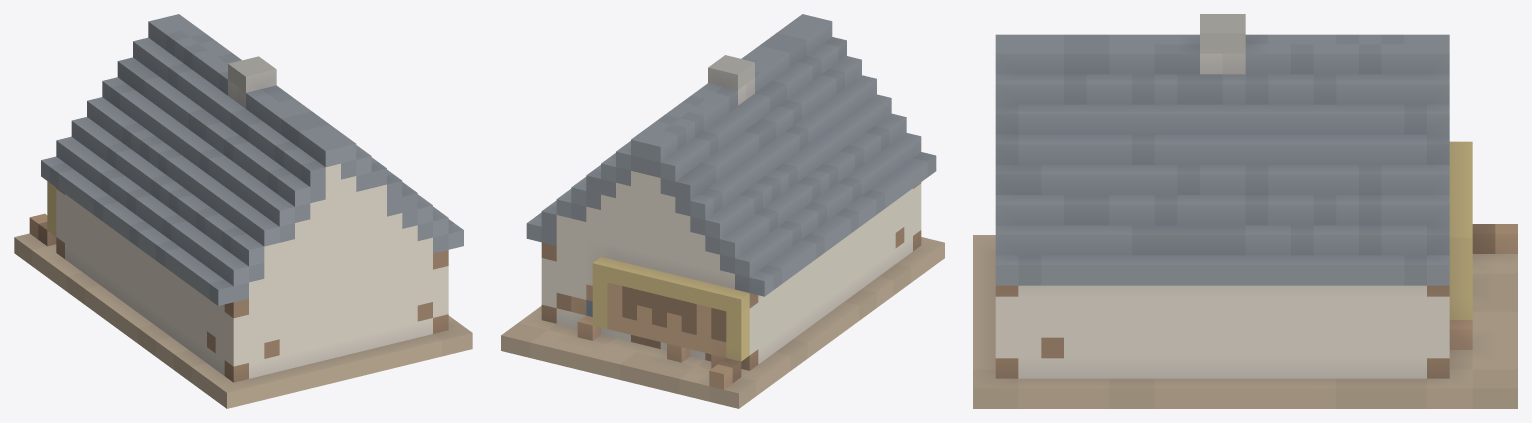
File: cooperage.lite.glb
3 renders of one model, left to right at view 1: azimuth 30°, elevation 25°; view 2: azimuth 150°, elevation 25°; view 3: azimuth 270°, elevation 25°, orthographic. The views are drawn at different scales.
Parts seen in each view (by area): view 1: cooperage; view 2: cooperage; view 3: cooperage.
Boxes of the visible parts, x1,y1,x2,y2 form: cooperage: [14, 14, 472, 408]; cooperage: [501, 14, 944, 408]; cooperage: [973, 14, 1517, 408].
Bounding box in the file's own units: 4 × 3.75 × 6.
